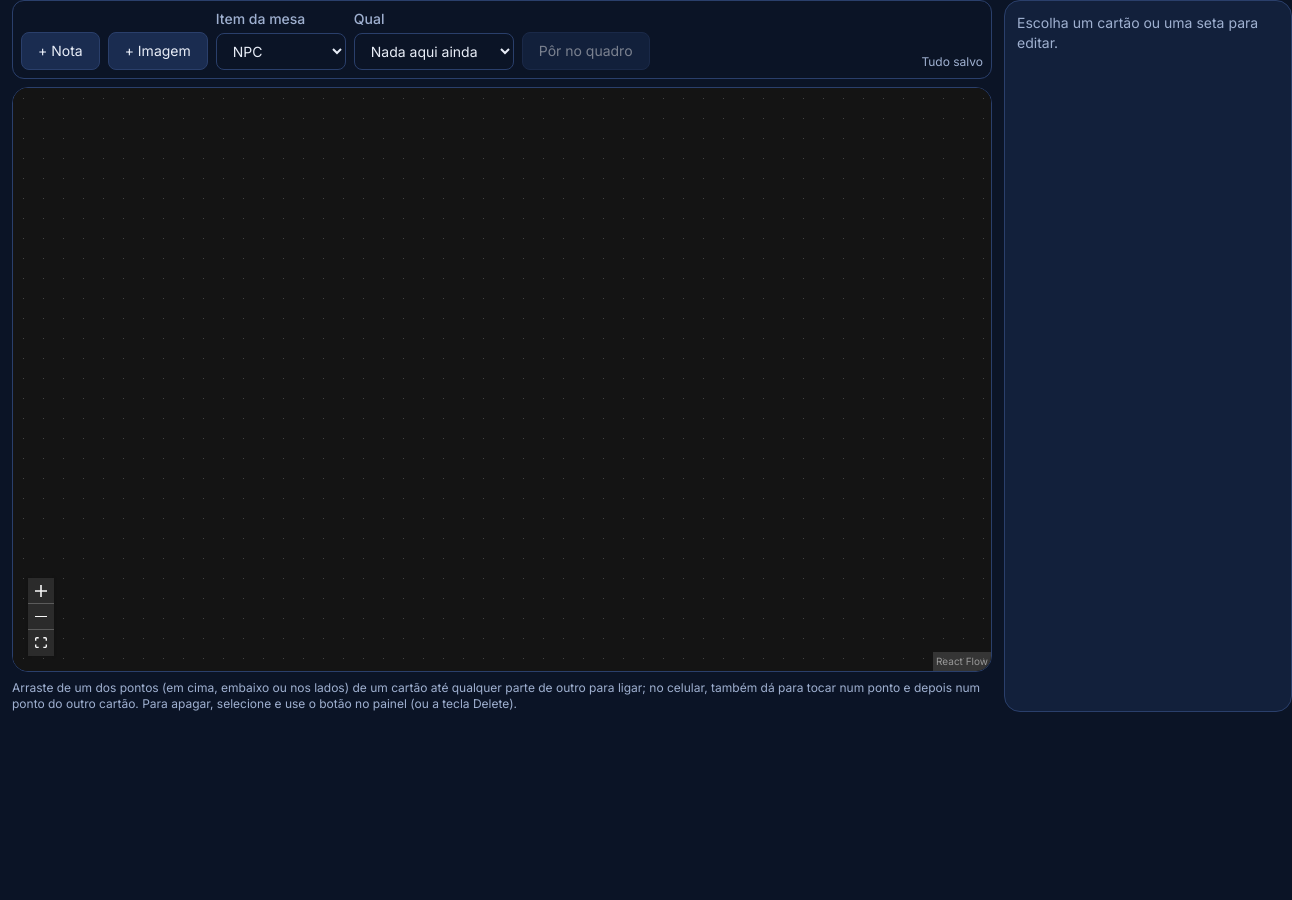
it: Quadro da sessão › criar uma nota, revelar e salvar sozinho
The width and height of the screenshot is (1292, 900).
Click the button "+ Nota": (60,51) left=21, top=32, right=100, bottom=70
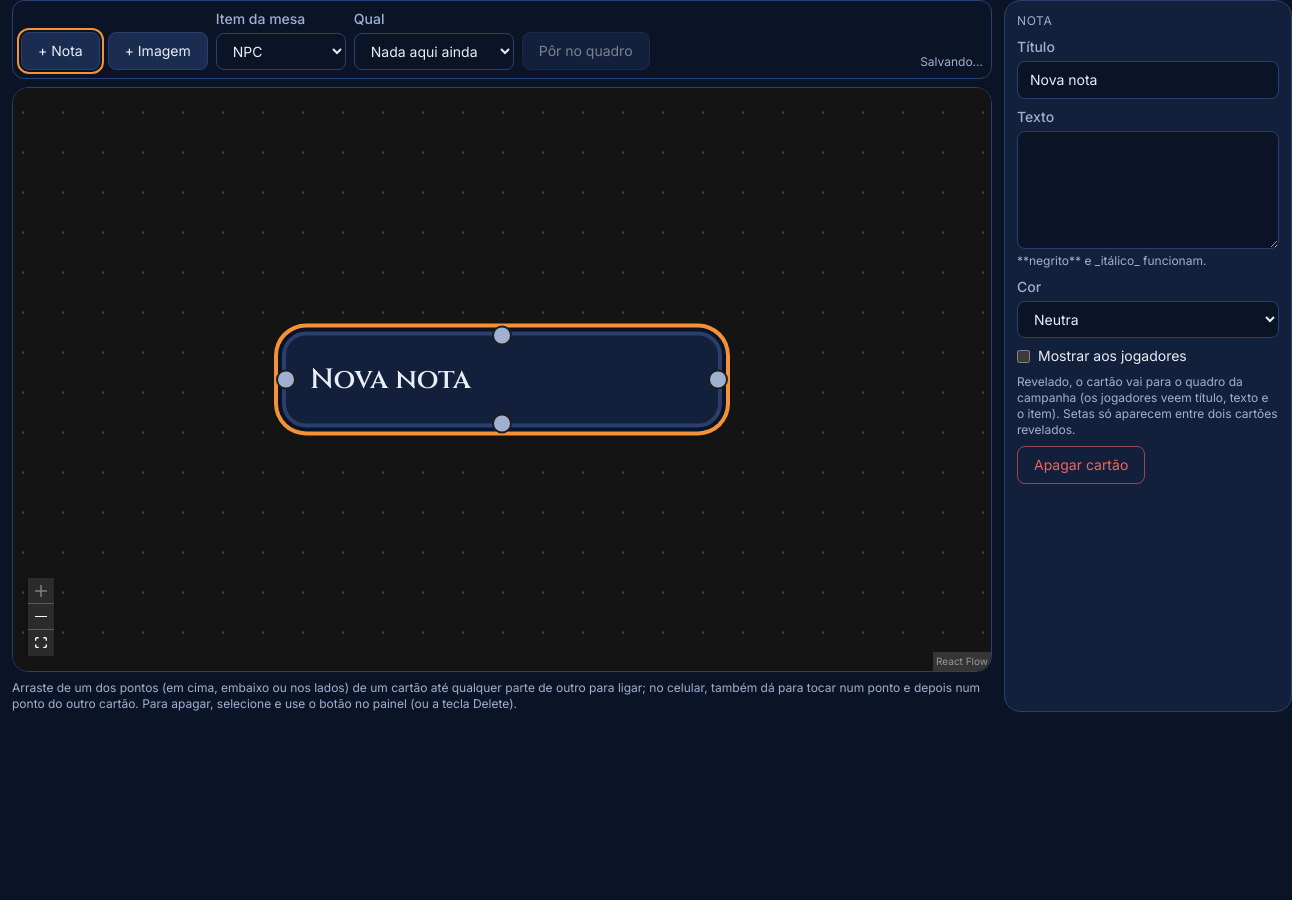
a nota nova já vem selecionada: o painel abre para editar
Replace the text in the field labelled "Título" with "A ponte": (1148,80) left=1017, top=61, right=1279, bottom=99
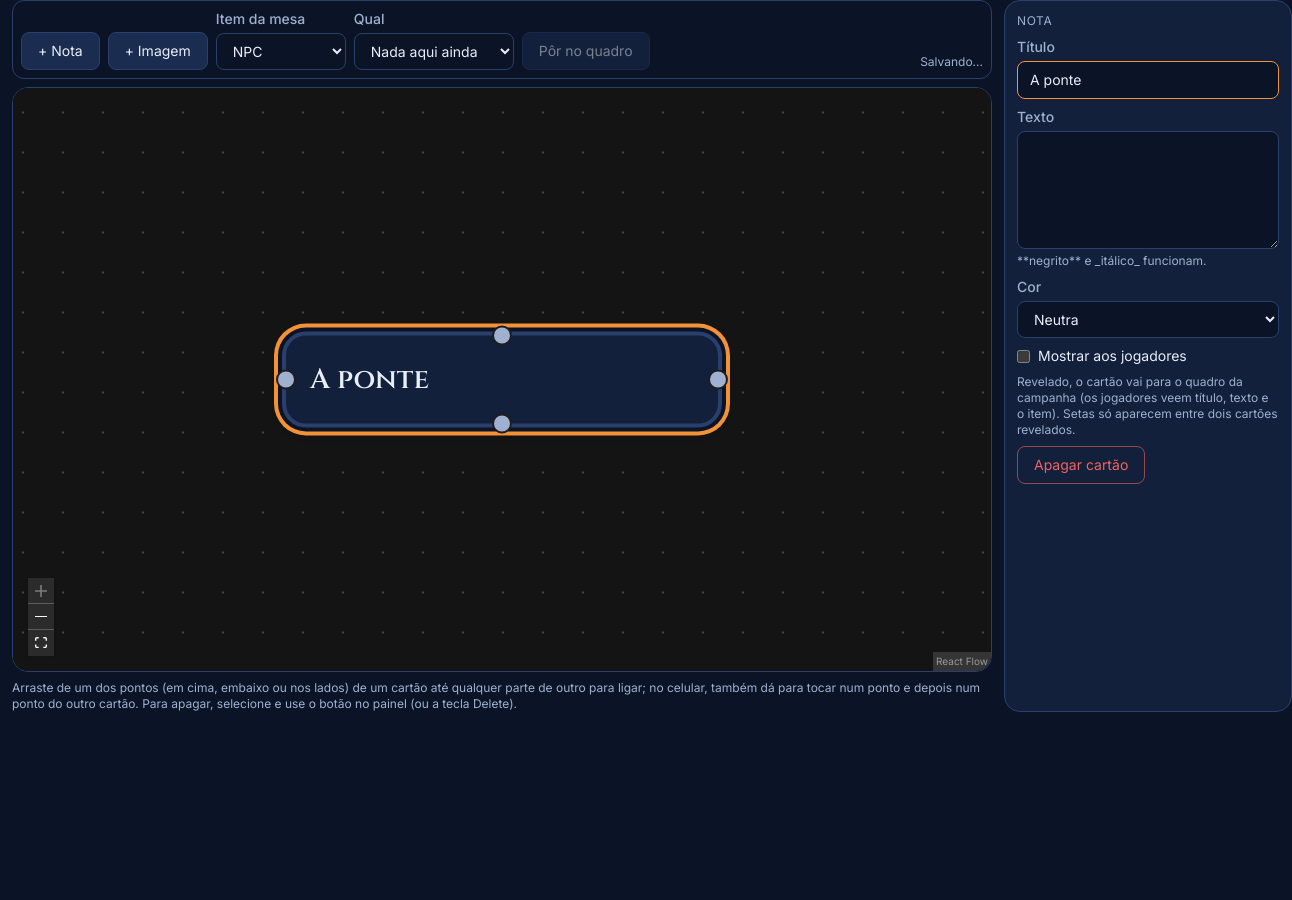
Click the checkbox labelled "Mostrar aos jogadores": (1024,356) left=1017, top=350, right=1030, bottom=362
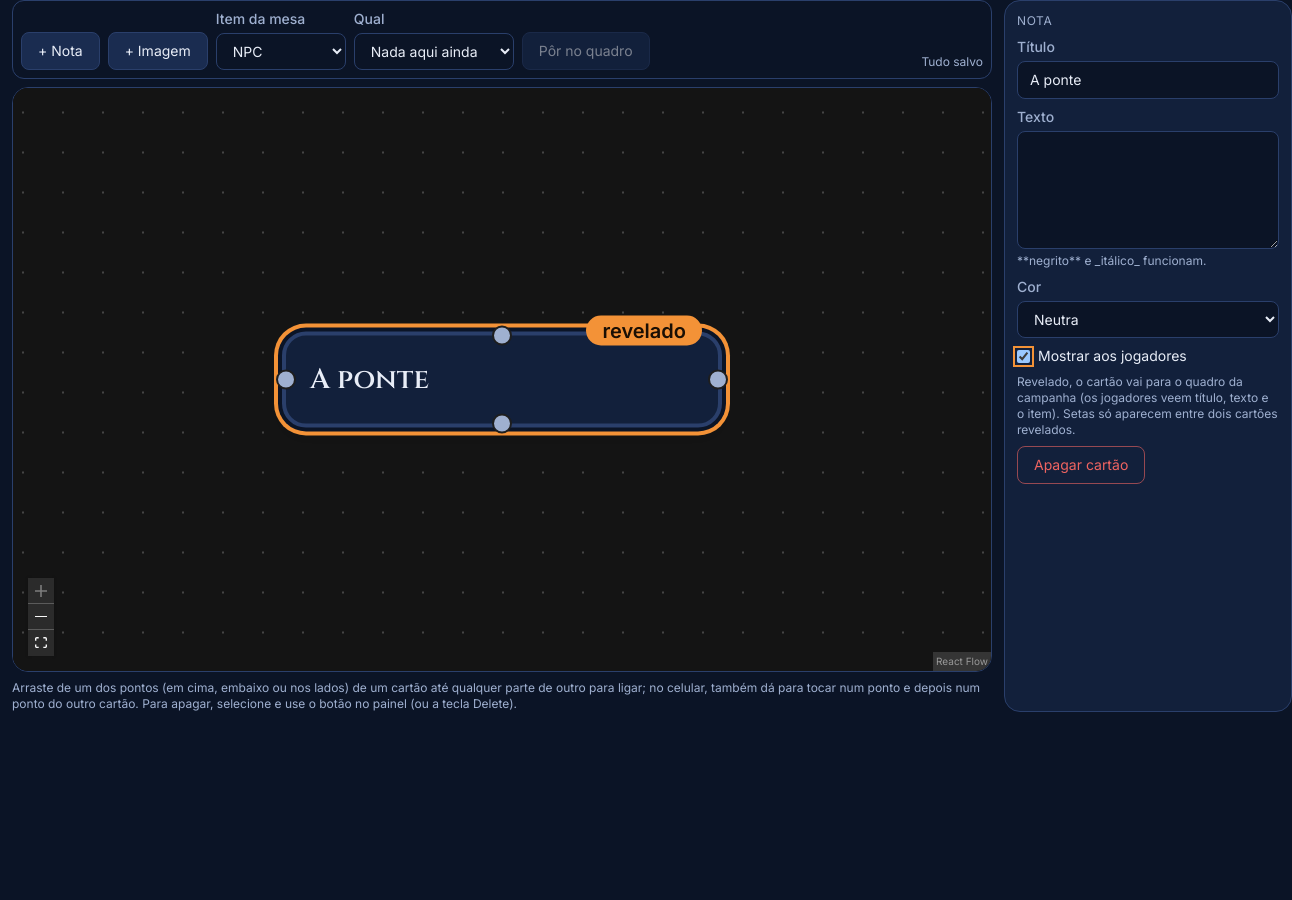
Result: the text "Tudo salvo" is shown at left=921, top=54, right=983, bottom=70
